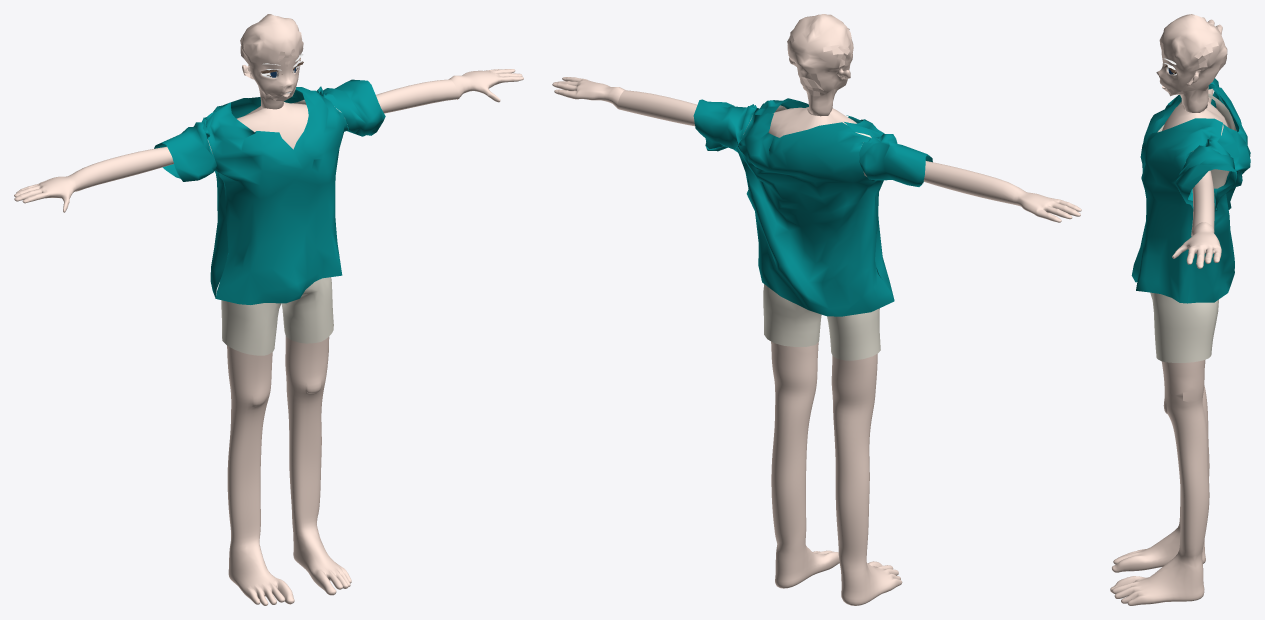
File: avatarbig.glb
3 views of the same model, side by side, from view 1: azimuth 30°, elevation 25°; view 2: azimuth 150°, elevation 25°; view 3: azimuth 270°, elevation 25° (orthographic). The views are drawn at different scales.
Visible parts, largest first — view 1: 2, body, underware, headpart; view 2: 2, body, underware, headpart; view 3: 2, body, headpart, underware.
Part boxes in pixels (x1=…): 2: x1=154, y1=79, x2=385, y2=304; body: x1=14, y1=69, x2=523, y2=605; underware: x1=221, y1=99, x2=333, y2=355; headpart: x1=240, y1=14, x2=303, y2=109; 2: x1=693, y1=98, x2=932, y2=316; body: x1=552, y1=77, x2=1081, y2=605; underware: x1=763, y1=105, x2=880, y2=360; headpart: x1=787, y1=14, x2=853, y2=116; 2: x1=1131, y1=78, x2=1250, y2=303; body: x1=1110, y1=17, x2=1228, y2=605; headpart: x1=1156, y1=14, x2=1227, y2=112; underware: x1=1150, y1=93, x2=1236, y2=362.
Bounding box in the file's own units: 1236 × 1301 × 291.
Materials: 11 (10 with a texture image).
